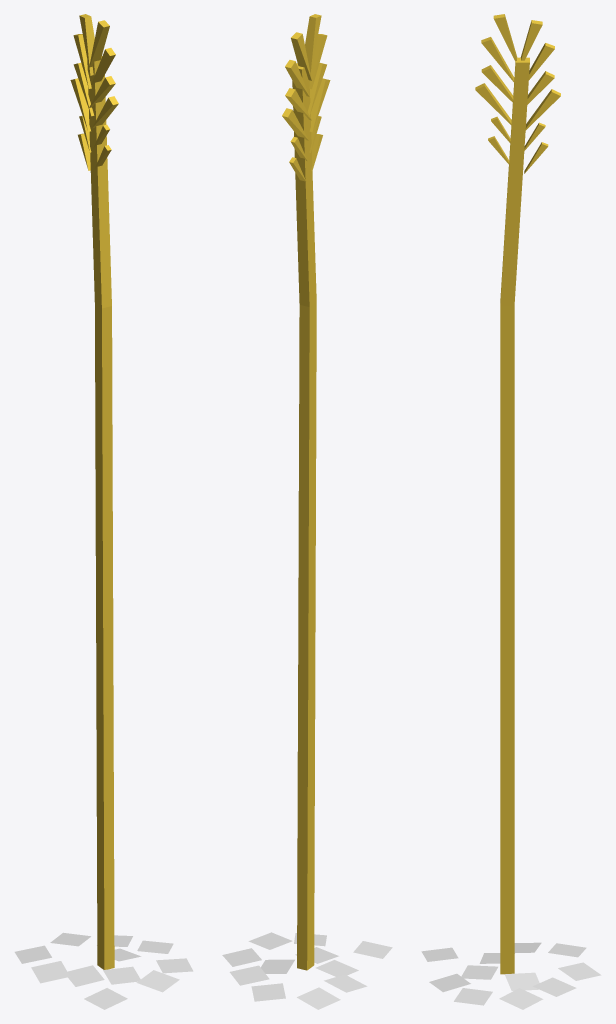
File: barley.glb
3 views of the same model, side by side, from view 1: azimuth 30°, elevation 25°; view 2: azimuth 150°, elevation 25°; view 3: azimuth 270°, elevation 25° (orthographic).
Visible parts, largest first — view 1: barley, barley_copy.002, barley_copy.001, barley_copy.006, barley_copy, barley_copy.005, barley_copy.007, barley_copy.008; view 2: barley, barley_copy.008, barley_copy.004, barley_copy.009, barley_copy.010, barley_copy.006, barley_copy.002, barley_copy.007, barley_copy.003, barley_copy; view 3: barley, barley_copy.010, barley_copy.003, barley_copy.007, barley_copy.004, barley_copy.009, barley_copy.005, barley_copy.001.
Part boxes in pixels (left/top/right/bottom): barley: left=70, top=14, right=118, bottom=969; barley_copy.002: left=31, top=961, right=70, bottom=983; barley_copy.001: left=136, top=970, right=179, bottom=992; barley_copy.006: left=84, top=988, right=127, bottom=1009; barley_copy: left=68, top=965, right=104, bottom=986; barley_copy.005: left=103, top=966, right=140, bottom=984; barley_copy.007: left=156, top=958, right=193, bottom=973; barley_copy.008: left=14, top=945, right=51, bottom=963; barley: left=282, top=14, right=330, bottom=970; barley_copy.008: left=297, top=987, right=340, bottom=1009; barley_copy.004: left=251, top=983, right=285, bottom=1001; barley_copy.009: left=229, top=965, right=269, bottom=985; barley_copy.010: left=222, top=948, right=261, bottom=966; barley_copy.006: left=353, top=941, right=392, bottom=958; barley_copy.002: left=324, top=974, right=367, bottom=992; barley_copy.007: left=248, top=932, right=292, bottom=949; barley_copy.003: left=261, top=959, right=294, bottom=973; barley_copy: left=315, top=960, right=358, bottom=976; barley: left=475, top=14, right=560, bottom=974; barley_copy.010: left=499, top=988, right=543, bottom=1009; barley_copy.003: left=504, top=972, right=539, bottom=990; barley_copy.007: left=454, top=988, right=492, bottom=1005; barley_copy.004: left=558, top=962, right=601, bottom=980; barley_copy.009: left=532, top=977, right=576, bottom=996; barley_copy.005: left=461, top=965, right=497, bottom=979; barley_copy.001: left=429, top=973, right=470, bottom=992.
Bounding box in the file's own units: 0.1287 × 0.8386 × 0.1434.
